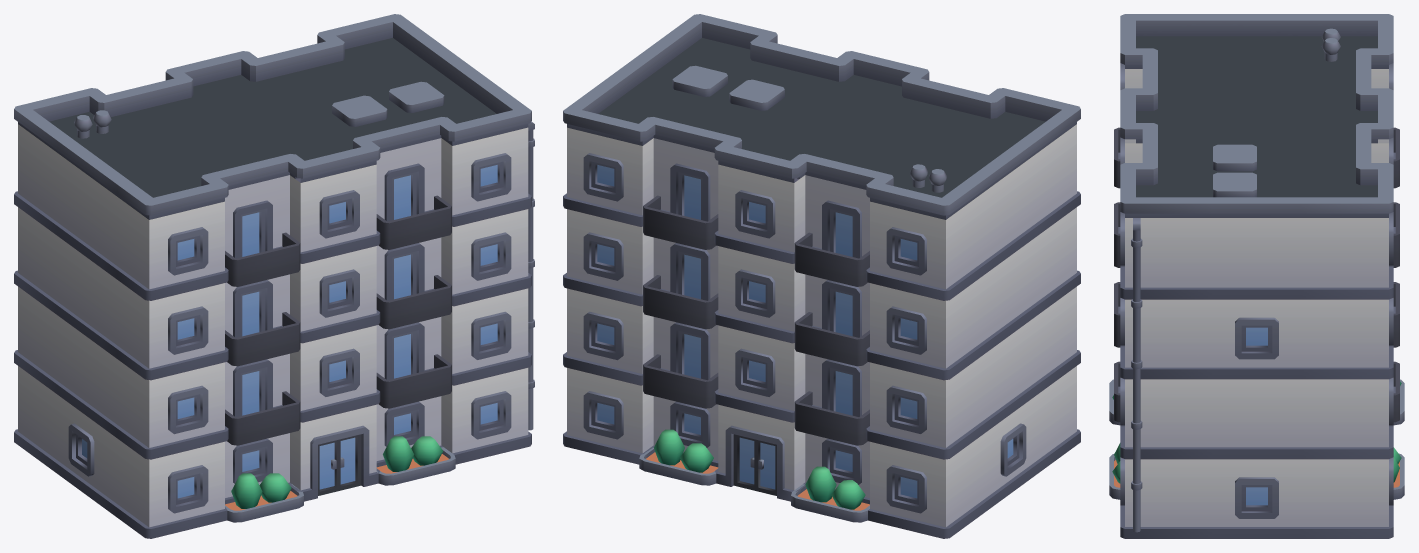
The model's file is bld_mid_b.glb.
3 views of the same model, side by side, from view 1: azimuth 30°, elevation 25°; view 2: azimuth 150°, elevation 25°; view 3: azimuth 270°, elevation 25° (orthographic).
Visible parts, largest first — view 1: building-j; view 2: building-j; view 3: building-j.
Part boxes in pixels (<box>): building-j: <box>14,14,534,538</box>; building-j: <box>563,14,1080,538</box>; building-j: <box>1109,14,1404,538</box>.
Size of the model in its own units: 12.31 by 10 by 7.92.
1 material, 1 textured.
